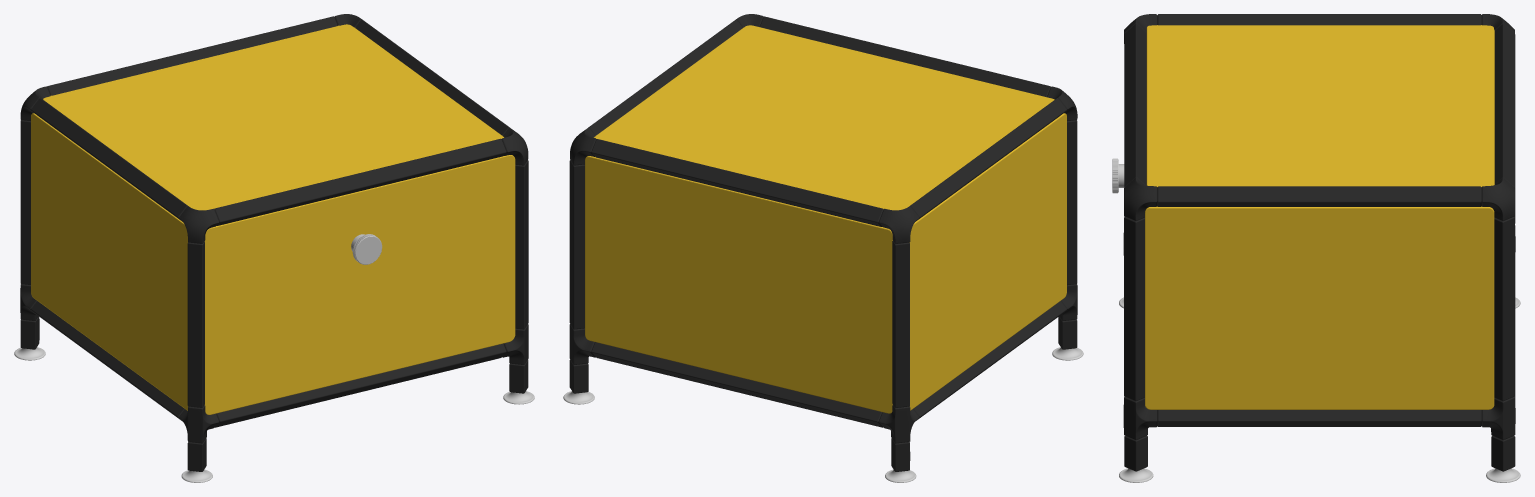
3 renders of one model, left to right at view 1: azimuth 30°, elevation 25°; view 2: azimuth 150°, elevation 25°; view 3: azimuth 270°, elevation 25°, orthographic. The views are drawn at different scales.
Visible parts, largest first — view 1: 420x374x229; view 2: 420x374x229; view 3: 420x374x229.
Boxes of the visible parts, x1=… form: 420x374x229: x1=14, y1=14, x2=534, y2=482; 420x374x229: x1=563, y1=14, x2=1083, y2=482; 420x374x229: x1=1112, y1=14, x2=1520, y2=482.
Bounding box in the file's own units: 0.5099 × 0.3683 × 0.4707.
